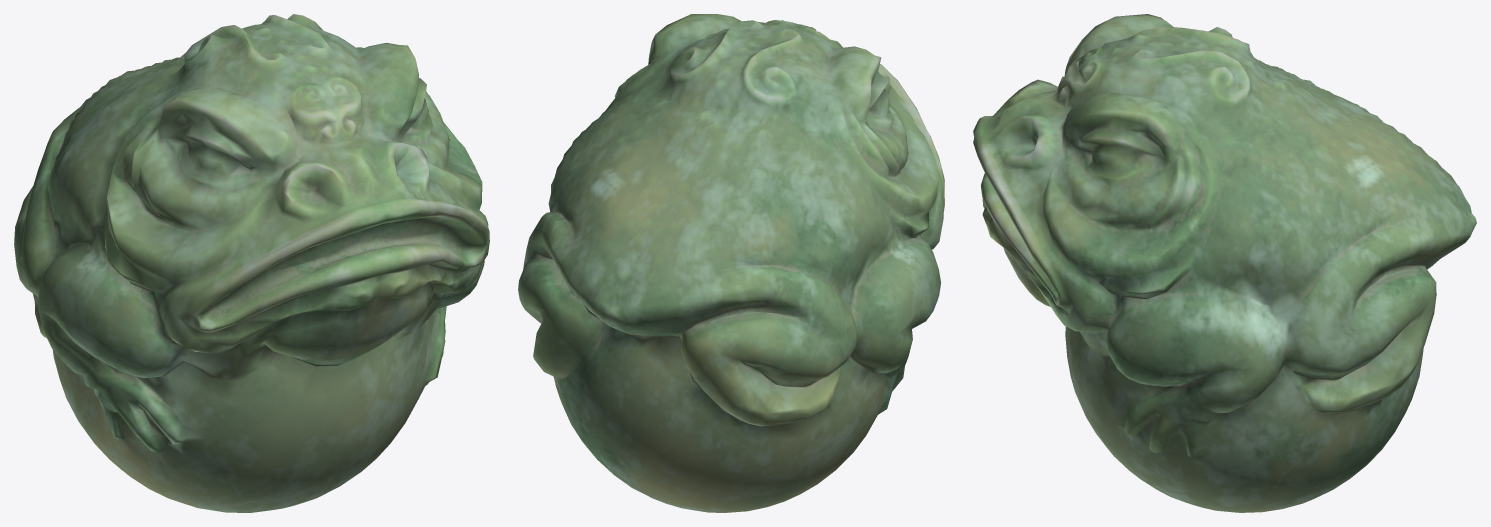
Rendered from JadeToad.glb.
The picture shows the model from 3 angles, left to right: view 1: azimuth 30°, elevation 25°; view 2: azimuth 150°, elevation 25°; view 3: azimuth 270°, elevation 25°; orthographic projection. The views are drawn at different scales.
Visible parts, largest first — view 1: Toad_Final_Low:Group28800; view 2: Toad_Final_Low:Group28800; view 3: Toad_Final_Low:Group28800.
Boxes of the visible parts, x1,y1,x2,y2 form: Toad_Final_Low:Group28800: (14,14,489,512); Toad_Final_Low:Group28800: (518,14,944,512); Toad_Final_Low:Group28800: (973,14,1476,512).
Size of the model in its own units: 0.3534 by 0.4059 by 0.4069.
1 material, 1 textured.
